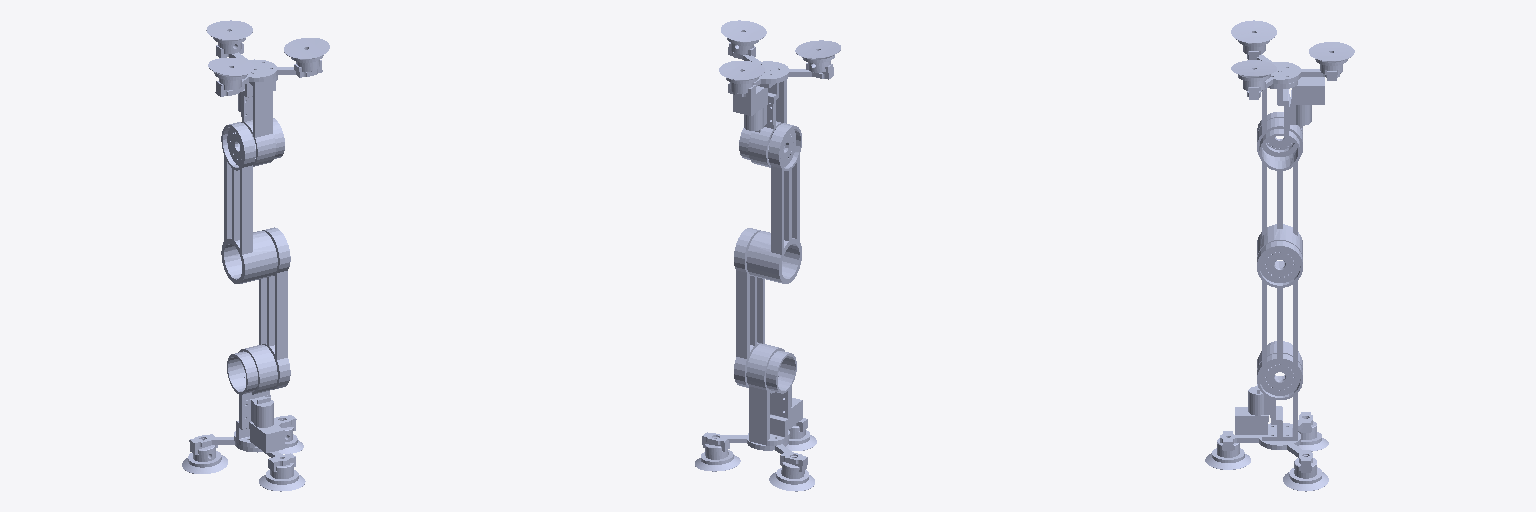
robot.urdf — bigmama0306:
<?xml version="1.0" encoding="utf-8"?>
<!-- This URDF was automatically created by SolidWorks to URDF Exporter! Originally created by [author] ([email redacted]) 
     Commit Version: 1.6.0-1-g15f4949  Build Version: 1.6.7594.29634
     For more information, please see http://wiki.ros.org/sw_urdf_exporter -->
<robot
  name="bigmama0306">
  <link
    name="Link_0">
    <inertial>
      <origin
        xyz="-0.0036197 -0.0088605 0.029488"
        rpy="0 0 0" />
      <mass
        value="0.80666" />
      <inertia
        ixx="0.0014974"
        ixy="-1.2947E-05"
        ixz="1.4235E-05"
        iyy="0.0014446"
        iyz="-7.5473E-06"
        izz="0.0010286" />
    </inertial>
    <visual>
      <origin
        xyz="0 0 0"
        rpy="0 0 0" />
      <geometry>
        <mesh
          filename="package://bigmama0306_description/meshes/Link_0.STL" />
      </geometry>
      <material
        name="">
        <color
          rgba="0.79216 0.81961 0.93333 1" />
      </material>
    </visual>
    <collision>
      <origin
        xyz="0 0 0"
        rpy="0 0 0" />
      <geometry>
        <mesh
          filename="package://bigmama0306_description/meshes/Link_0.STL" />
      </geometry>
    </collision>
  </link>
  <link
    name="Link_1">
    <inertial>
      <origin
        xyz="-5.5511E-16 0.12 0.014813"
        rpy="0 0 0" />
      <mass
        value="0.28238" />
      <inertia
        ixx="0.0027445"
        ixy="4.2498E-20"
        ixz="3.991E-21"
        iyy="0.00019508"
        iyz="-4.8177E-20"
        izz="0.0029159" />
    </inertial>
    <visual>
      <origin
        xyz="0 0 0"
        rpy="0 0 0" />
      <geometry>
        <mesh
          filename="package://bigmama0306_description/meshes/Link_1.STL" />
      </geometry>
      <material
        name="">
        <color
          rgba="0.79216 0.81961 0.93333 1" />
      </material>
    </visual>
    <collision>
      <origin
        xyz="0 0 0"
        rpy="0 0 0" />
      <geometry>
        <mesh
          filename="package://bigmama0306_description/meshes/Link_1.STL" />
      </geometry>
    </collision>
  </link>
  <joint
    name="Joint_1"
    type="revolute">
    <origin
      xyz="0.022 0 0.155"
      rpy="1.5708 0 1.5708" />
    <parent
      link="Link_0" />
    <child
      link="Link_1" />
    <axis
      xyz="0 0 -1" />
    <limit
      lower="-3.14"
      upper="3.14"
      effort="100"
      velocity="0.25" />
  </joint>
  <link
    name="Link_2">
    <inertial>
      <origin
        xyz="0 0.098184 -0.051898"
        rpy="0 0 0" />
      <mass
        value="0.34516" />
      <inertia
        ixx="0.0036332"
        ixy="3.4151E-18"
        ixz="-4.4364E-19"
        iyy="0.00034405"
        iyz="0.00024115"
        izz="0.0037914" />
    </inertial>
    <visual>
      <origin
        xyz="0 0 0"
        rpy="0 0 0" />
      <geometry>
        <mesh
          filename="package://bigmama0306_description/meshes/Link_2.STL" />
      </geometry>
      <material
        name="">
        <color
          rgba="0.79216 0.81961 0.93333 1" />
      </material>
    </visual>
    <collision>
      <origin
        xyz="0 0 0"
        rpy="0 0 0" />
      <geometry>
        <mesh
          filename="package://bigmama0306_description/meshes/Link_2.STL" />
      </geometry>
    </collision>
  </link>
  <joint
    name="Joint_2"
    type="revolute">
    <origin
      xyz="0 0.24 0"
      rpy="0 0 0" />
    <parent
      link="Link_1" />
    <child
      link="Link_2" />
    <axis
      xyz="0 0 -1" />
    <limit
      lower="-3.14"
      upper="3.14"
      effort="100"
      velocity="0.25" />
  </joint>
  <link
    name="Link_3">
    <inertial>
      <origin
        xyz="0.0088614 0.12552 0.025619"
        rpy="0 0 0" />
      <mass
        value="0.80659" />
      <inertia
        ixx="0.0014442"
        ixy="-7.5611E-06"
        ixz="-1.2945E-05"
        iyy="0.0010285"
        iyz="1.4228E-05"
        izz="0.001497" />
    </inertial>
    <visual>
      <origin
        xyz="0 0 0"
        rpy="0 0 0" />
      <geometry>
        <mesh
          filename="package://bigmama0306_description/meshes/Link_3.STL" />
      </geometry>
      <material
        name="">
        <color
          rgba="0.79216 0.81961 0.93333 1" />
      </material>
    </visual>
    <collision>
      <origin
        xyz="0 0 0"
        rpy="0 0 0" />
      <geometry>
        <mesh
          filename="package://bigmama0306_description/meshes/Link_3.STL" />
      </geometry>
    </collision>
  </link>
  <joint
    name="Joint_3"
    type="revolute">
    <origin
      xyz="0 0.24 -0.0442"
      rpy="0 0 0" />
    <parent
      link="Link_2" />
    <child
      link="Link_3" />
    <axis
      xyz="0 0 1" />
    <limit
      lower="-3.14"
      upper="3.14"
      effort="100"
      velocity="0.25" />
  </joint>
  <link
    name="Link_4">
    <inertial>
      <origin
        xyz="5.6621E-15 4.8191E-15 0.00025"
        rpy="0 0 0" />
      <mass
        value="3.927E-05" />
      <inertia
        ixx="2.4626E-10"
        ixy="1.9285E-38"
        ixz="3.6273E-24"
        iyy="2.4626E-10"
        iyz="1.3147E-24"
        izz="4.9087E-10" />
    </inertial>
    <visual>
      <origin
        xyz="0 0 0"
        rpy="0 0 0" />
      <geometry>
        <mesh
          filename="package://bigmama0306_description/meshes/Link_4.STL" />
      </geometry>
      <material
        name="">
        <color
          rgba="0.79216 0.81961 0.93333 1" />
      </material>
    </visual>
    <collision>
      <origin
        xyz="0 0 0"
        rpy="0 0 0" />
      <geometry>
        <mesh
          filename="package://bigmama0306_description/meshes/Link_4.STL" />
      </geometry>
    </collision>
  </link>
  <joint
    name="Joint_4"
    type="revolute">
    <origin
      xyz="0 0.155 0.022"
      rpy="-1.5708 0 0" />
    <parent
      link="Link_3" />
    <child
      link="Link_4" />
    <axis
      xyz="0 0 1" />
    <limit
      lower="0"
      upper="0"
      effort="0"
      velocity="0" />
  </joint>
</robot>

--- What the picture shows (computed from the rendered views, not written in the file) ---
Views: 3 orthographic renders of the robot side by side, from view 1: azimuth 30°, elevation 25°; view 2: azimuth 150°, elevation 25°; view 3: azimuth 270°, elevation 25°.
Robot: bigmama0306 — 5 links, 4 joints (4 revolute); root link Link_0; default pose: all joints at 0.
Visible links, largest first — view 1: Link_0, Link_3, Link_2, Link_1; view 2: Link_0, Link_3, Link_2, Link_1; view 3: Link_3, Link_0, Link_1, Link_2.
Link boxes in pixels (box(x1,y1,x2,y2)): Link_0: box(182, 344, 305, 491); Link_3: box(206, 20, 329, 166); Link_2: box(221, 122, 277, 283); Link_1: box(259, 227, 290, 389); Link_0: box(695, 344, 816, 491); Link_3: box(719, 20, 840, 167); Link_2: box(746, 123, 801, 283); Link_1: box(734, 228, 764, 387); Link_3: box(1231, 20, 1354, 170); Link_0: box(1205, 341, 1328, 491); Link_1: box(1257, 241, 1302, 399); Link_2: box(1257, 112, 1302, 267).
Bounding box of the posed robot: 0.2553 × 0.289 × 0.8854 m (x, y, z).
Meshes: 5 distinct files referenced, 5 mesh visuals loaded (5 binary STL).
